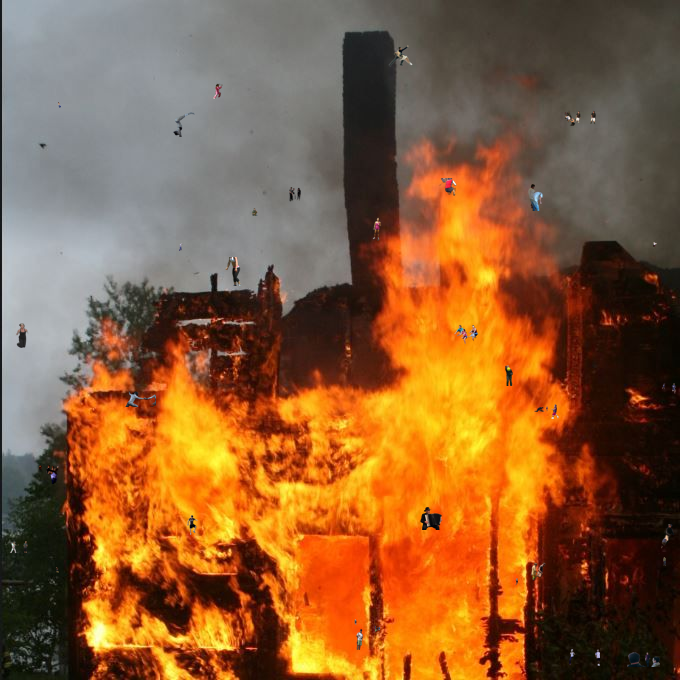Human: (173, 112, 195, 137), (388, 45, 413, 67), (658, 524, 675, 556), (528, 184, 548, 211), (420, 507, 443, 530), (569, 649, 600, 666), (368, 216, 389, 241), (8, 323, 29, 348), (519, 562, 546, 581), (564, 110, 596, 126), (125, 391, 156, 407), (627, 652, 660, 667), (438, 178, 457, 204), (225, 257, 242, 286), (454, 325, 478, 344), (37, 465, 59, 484), (546, 404, 569, 419), (187, 515, 198, 535), (10, 541, 28, 553), (662, 380, 676, 394), (211, 83, 223, 99), (289, 187, 301, 202), (356, 629, 364, 650), (505, 365, 513, 386), (534, 407, 545, 412), (252, 208, 258, 216), (653, 242, 658, 250), (179, 243, 183, 251), (375, 626, 380, 632), (663, 557, 666, 566), (515, 578, 518, 586), (354, 619, 357, 625), (56, 567, 59, 573), (58, 102, 61, 108)
